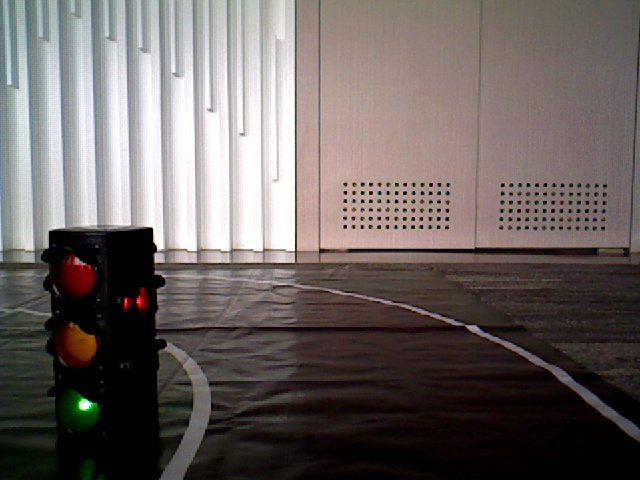green: (48, 240, 118, 437)
